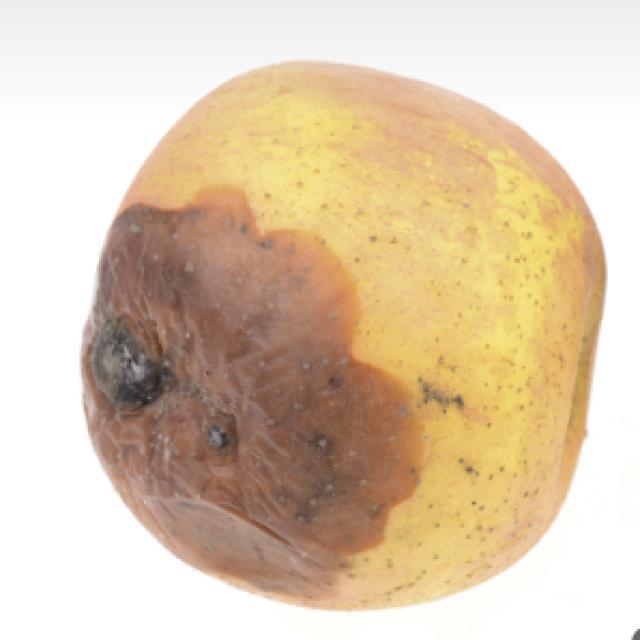Rotten: (95, 77, 590, 608)
